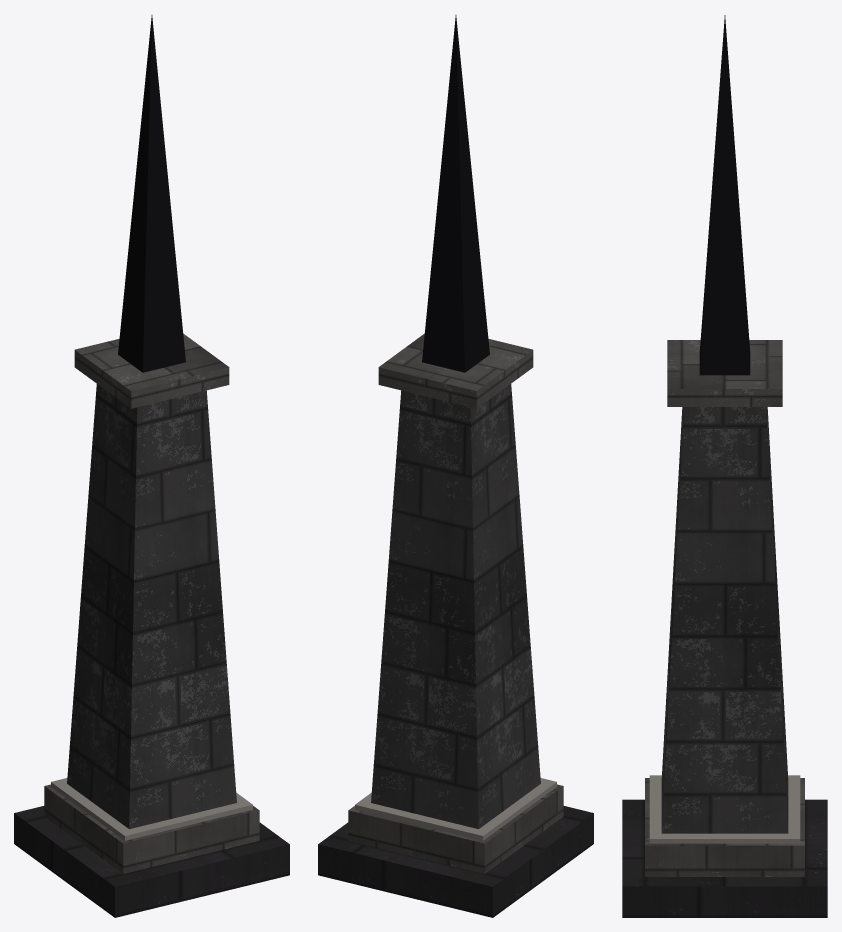
File: PlazaObelisco.gltf
3 views of the same model, side by side, from view 1: azimuth 30°, elevation 25°; view 2: azimuth 150°, elevation 25°; view 3: azimuth 270°, elevation 25° (orthographic).
Visible parts, largest first — view 1: PlazaObelisco; view 2: PlazaObelisco; view 3: PlazaObelisco.
Part boxes in pixels (x1,y1,x2,y2): PlazaObelisco: [14, 15, 289, 917]; PlazaObelisco: [318, 15, 593, 917]; PlazaObelisco: [622, 15, 827, 917].
Bounding box in the file's own units: 1.81 × 8.35 × 1.81.
5 materials, 3 textured.
